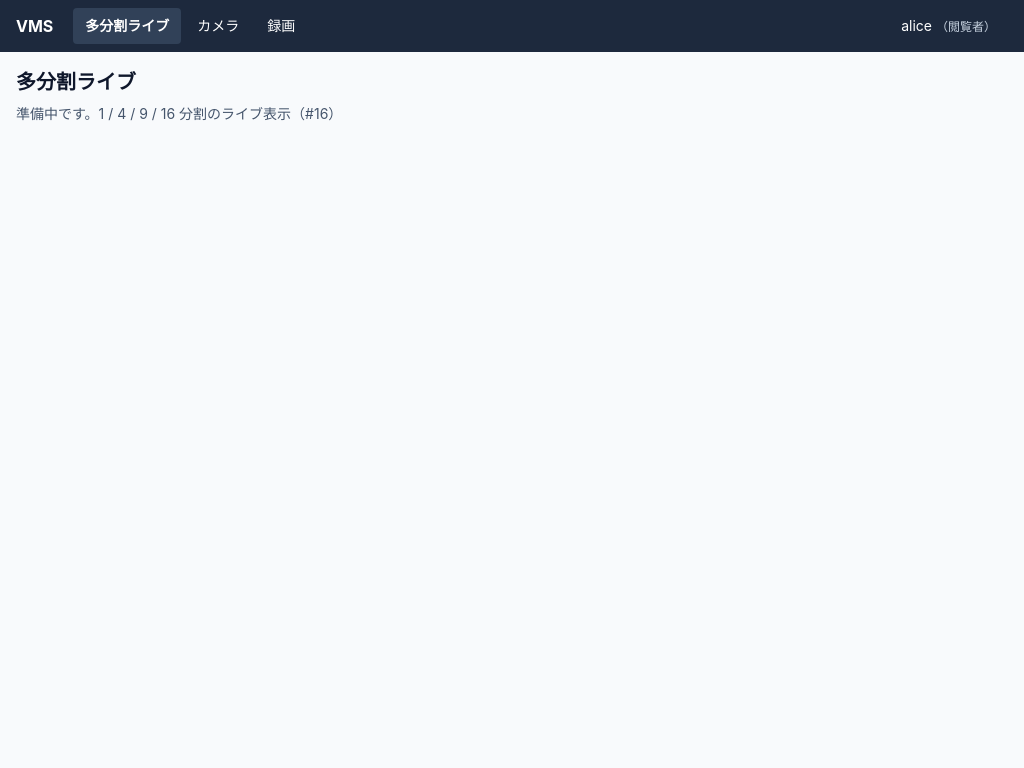
layout › logs out and returns to the login page
Expected: the heading "多分割ライブ" is shown, [16, 70, 136, 94]
Click the heading "alice（閲覧者）" at (949, 26), box [901, 17, 996, 34]
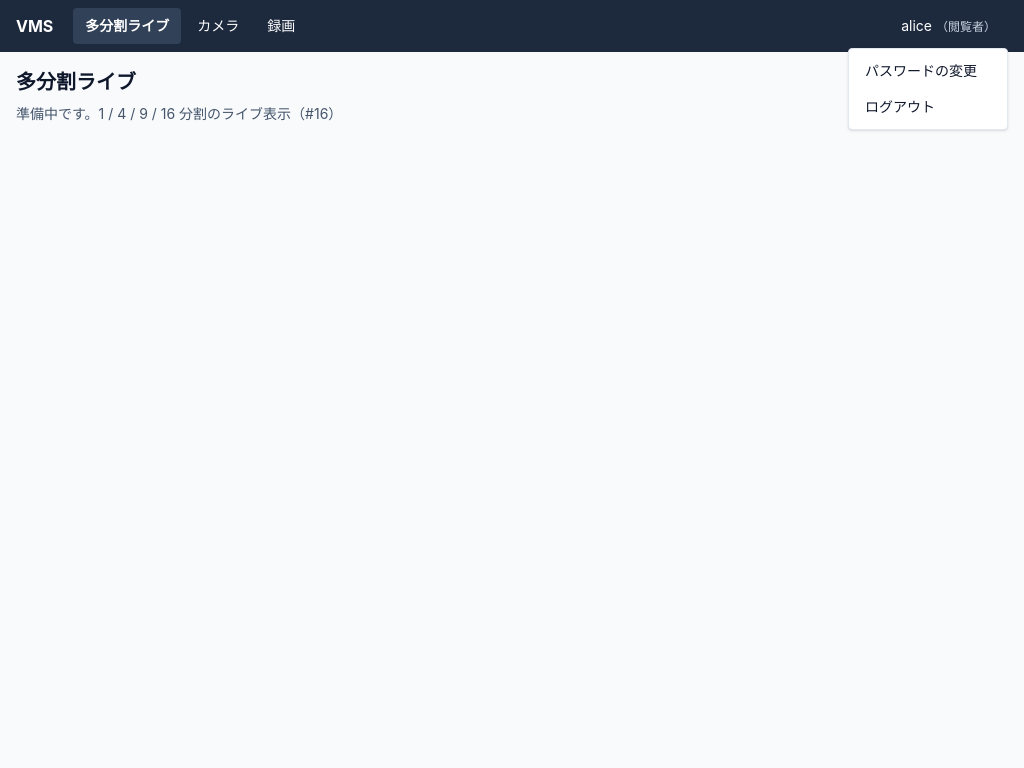
Click the button "ログアウト" at (928, 107), box [849, 89, 1007, 125]
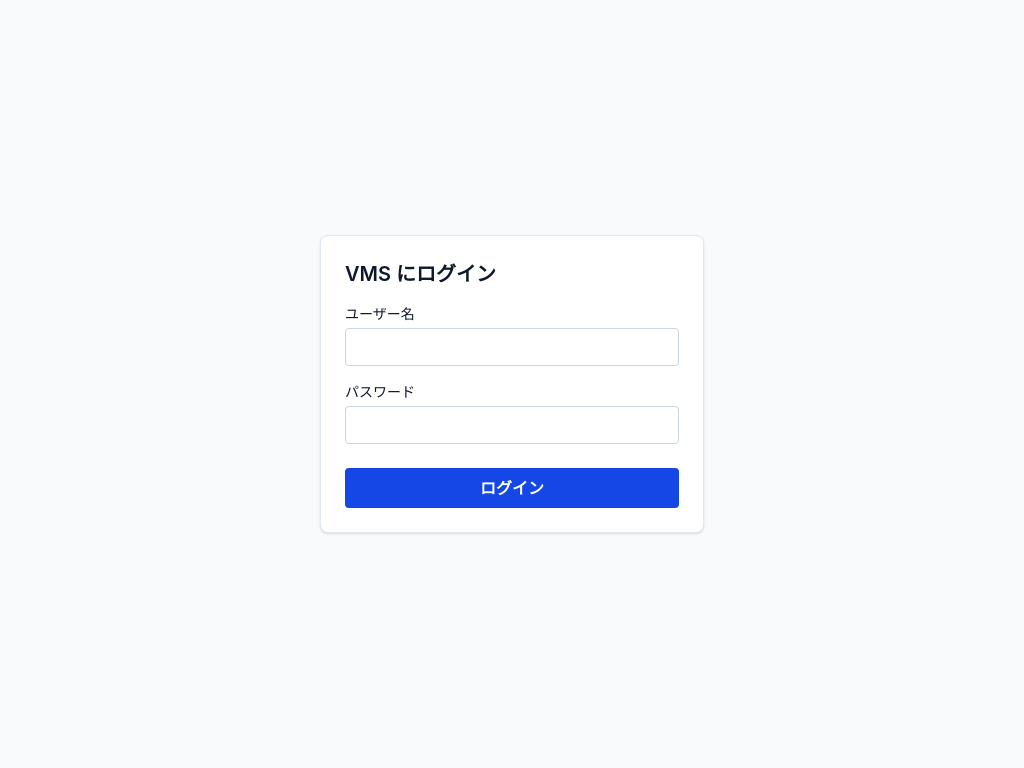
Now the heading "VMS にログイン" is shown, box [345, 262, 496, 286]
